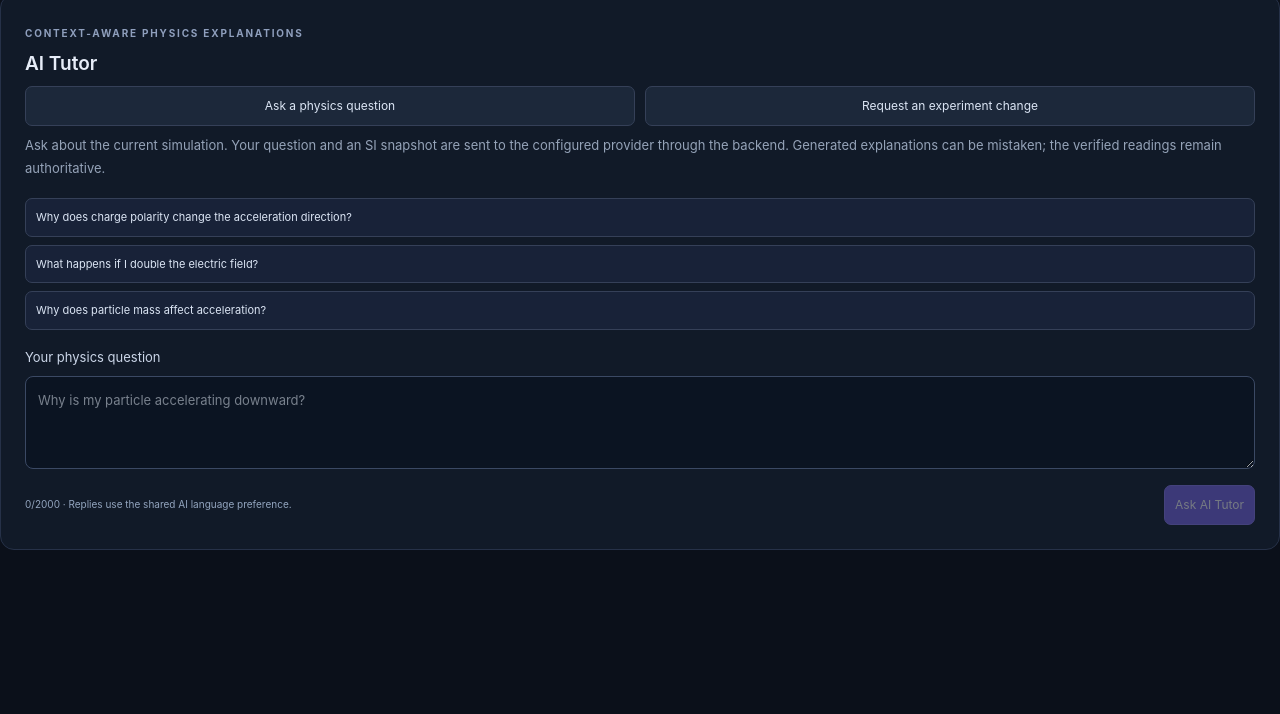
Scenario: marks parameter changes stale and disables confirmation, including edit then revert
Step 1. Click the button "Request an experiment change" → (950, 106), box [645,86,1255,126]
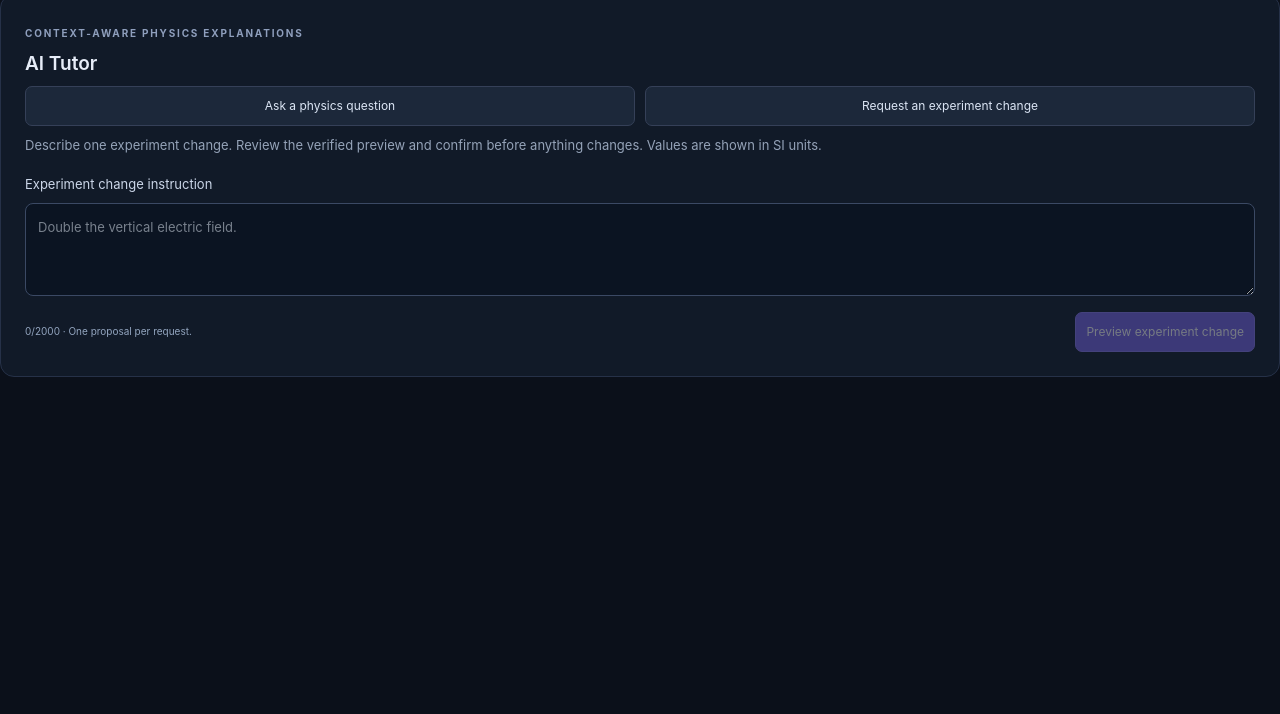
Step 2. Type "Double Ey." into the text box labelled "Experiment change instruction" → (640, 250), box [25,203,1255,296]
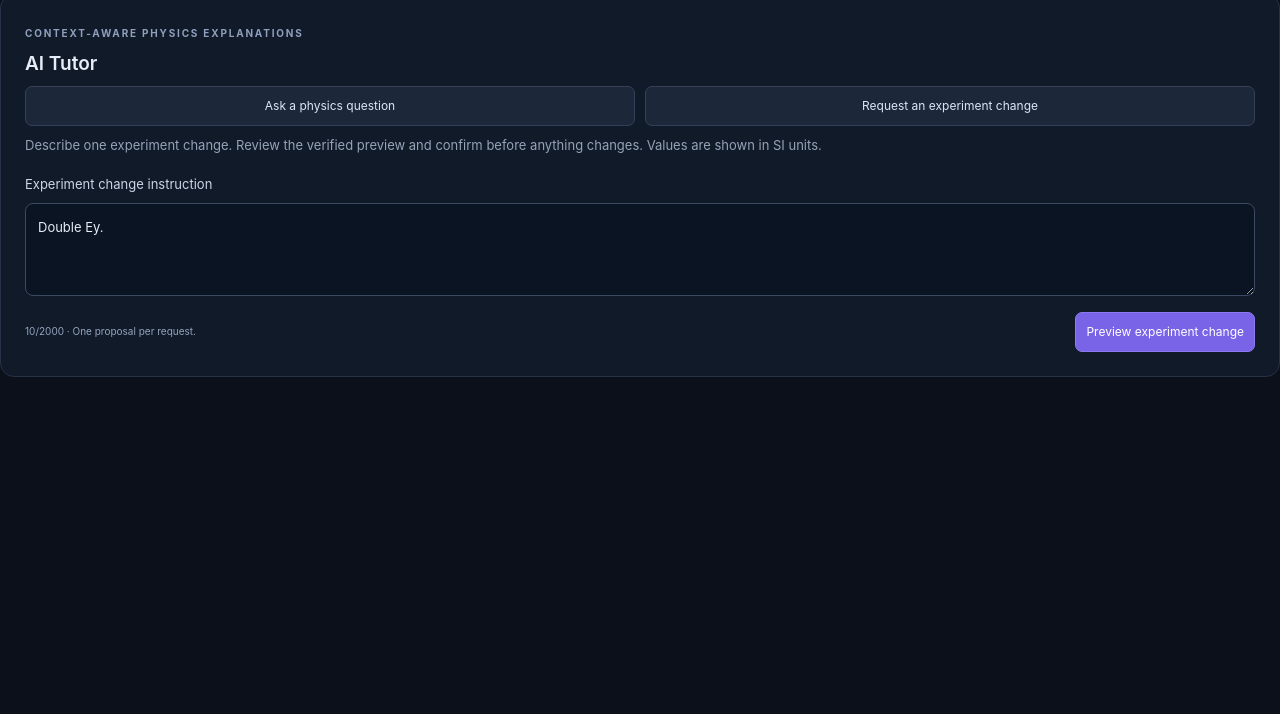
Step 3. Click the button "Preview experiment change" → (1165, 332), box [1075,312,1255,352]
(page scrolled)
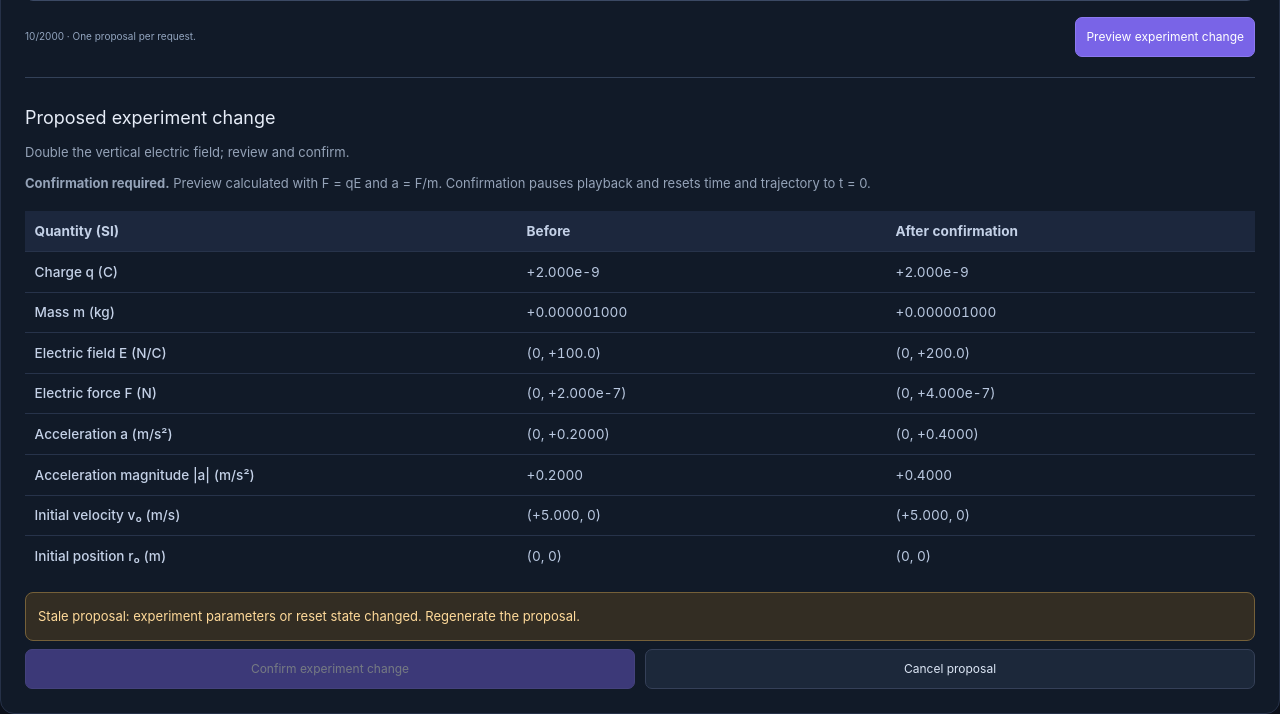
Check: the element named "AI action proposal" is shown
Check: the text "Stale proposal:" is shown, box [38,608,580,624]
Check: the button "Confirm experiment change" is disabled, box [25,649,635,689]
